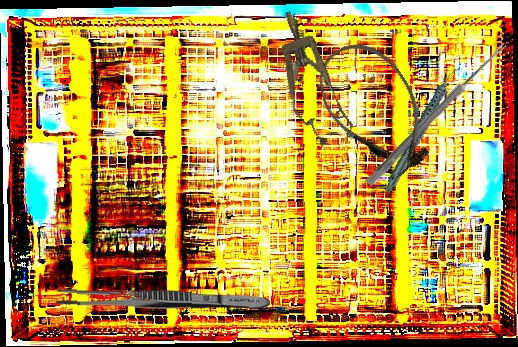Cannula: (303, 28, 448, 190)
Dressing Forceps: (55, 288, 271, 312)
Handpiece: (361, 64, 484, 195)
Speculum: (262, 3, 359, 152)
Surgical Spoon: (365, 40, 508, 188)
